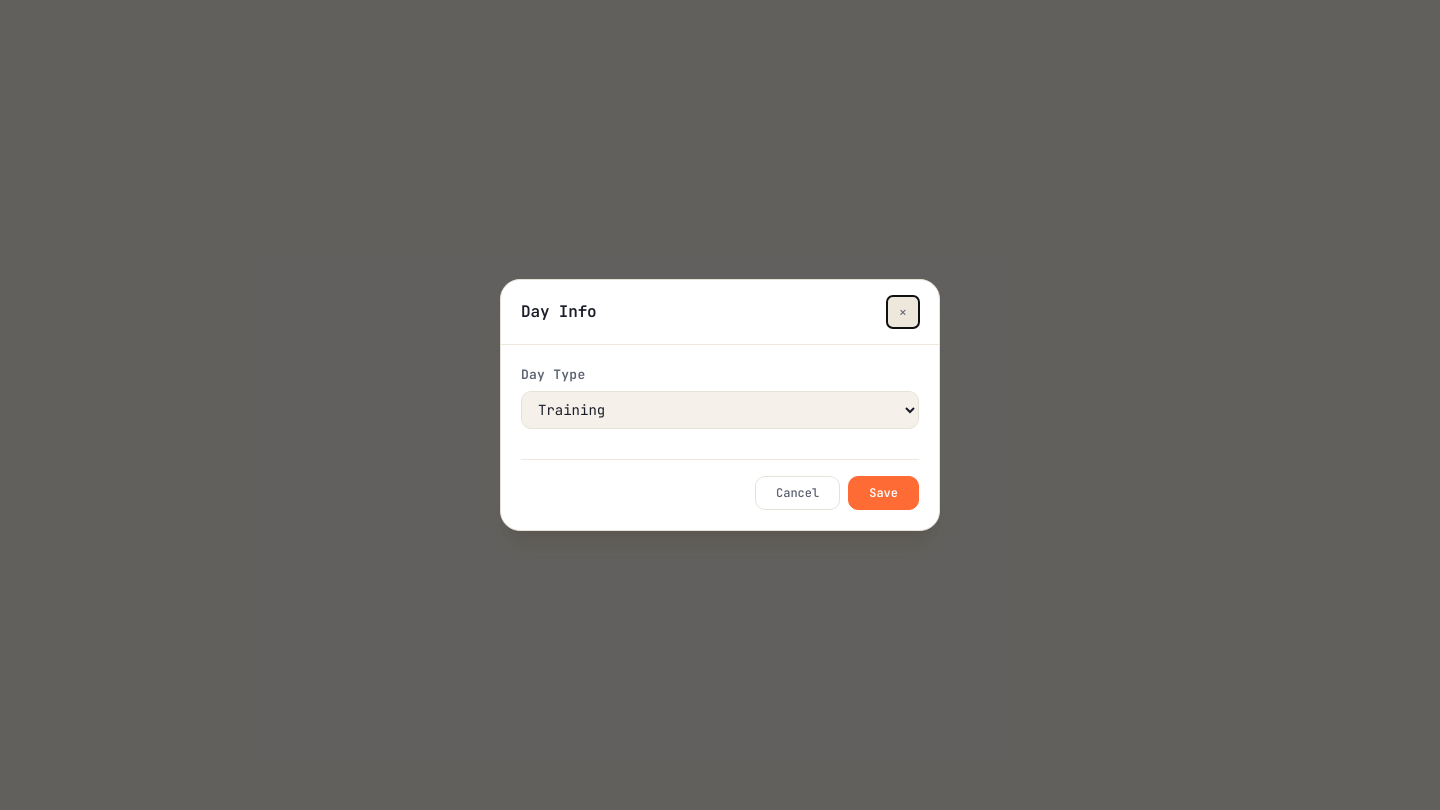
Test: DayInfoModal — new entry › shows error on failed submit
The image size is (1440, 810).
Click the button "Save" at (884, 493), box [848, 476, 919, 510]
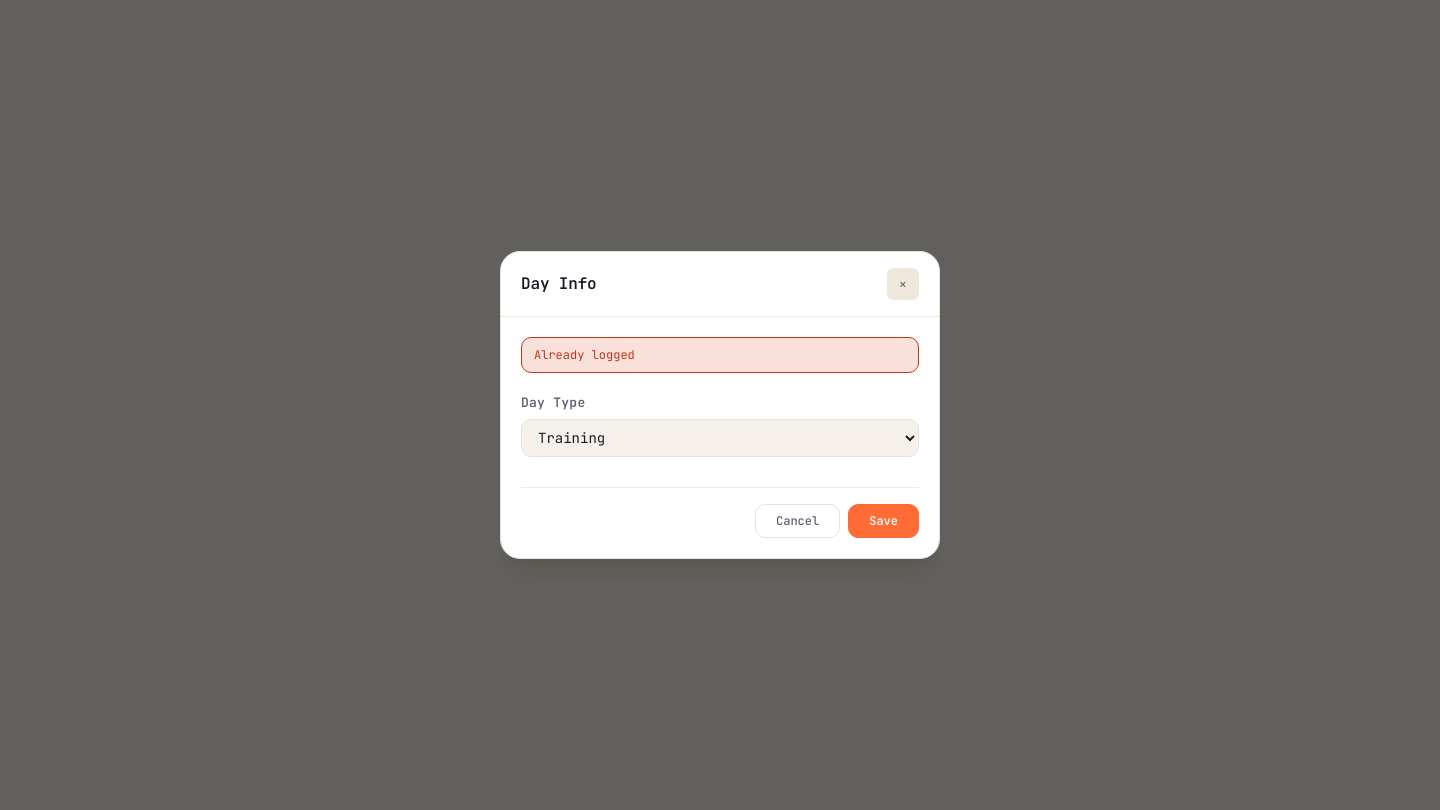
Check: the text "Already logged" is shown, box [521, 337, 919, 373]
